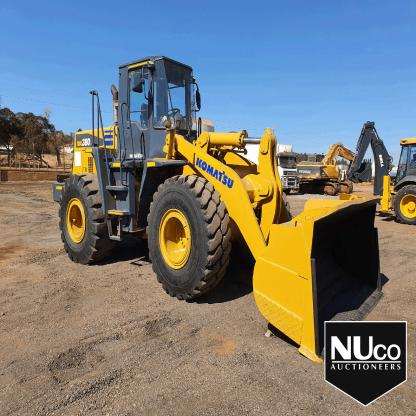bull_dozer/loader/grader: (47, 47, 386, 360)
